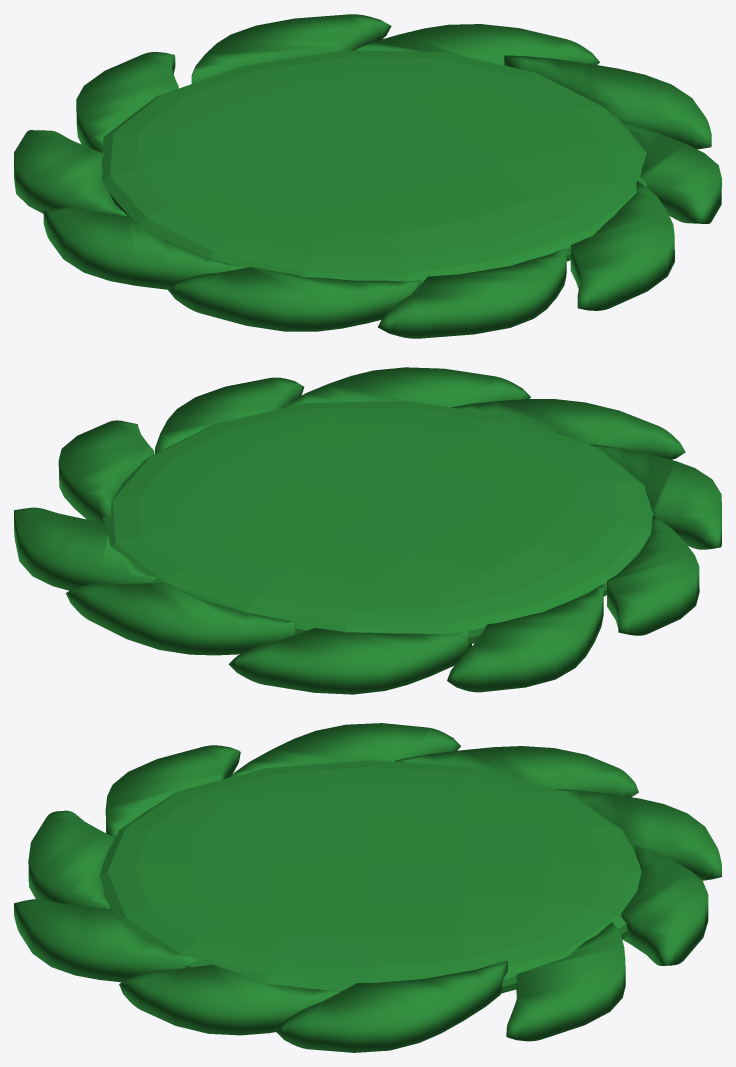
Rendered from slammer.fbx.
3 renders of one model, top to bottom at view 1: azimuth 30°, elevation 25°; view 2: azimuth 150°, elevation 25°; view 3: azimuth 270°, elevation 25°, orthographic.
Parts seen in each view (by area): view 1: PogTemplate; view 2: PogTemplate; view 3: PogTemplate.
Boxes of the visible parts, left/top/right/bottom form: PogTemplate: left=14, top=14, right=721, bottom=338; PogTemplate: left=14, top=367, right=721, bottom=694; PogTemplate: left=14, top=723, right=721, bottom=1052.
Bounding box in the file's own units: 120 × 8.9 × 119.
